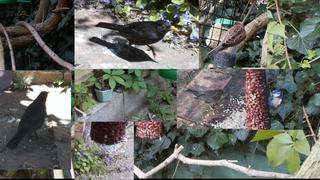blackbird: (94, 20, 179, 61), (6, 90, 51, 150), (184, 89, 226, 112)
blue tit: (266, 89, 283, 114)
sparrow: (207, 20, 247, 59)
